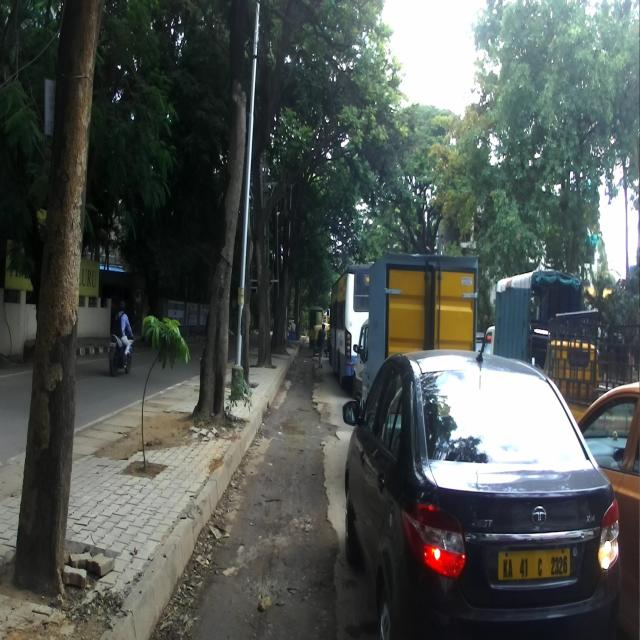car: (340, 348, 622, 640)
